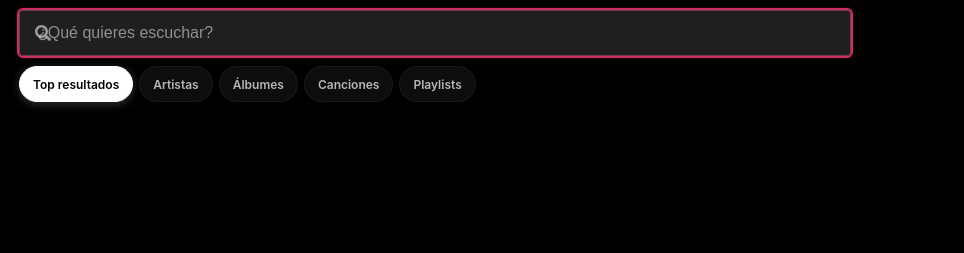
Búsqueda y reproducción esenciales › busca y presenta resultados procedentes del servicio musical
Type "Luz" into the search field with placeholder "¿Qué quieres escuchar?". click: (435, 33)
box: [19,10,851,56]
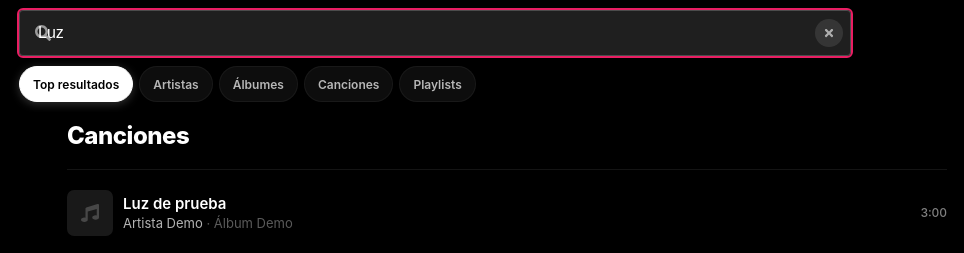
Now the text "Luz de prueba" is shown, box [123,194,226,213]
